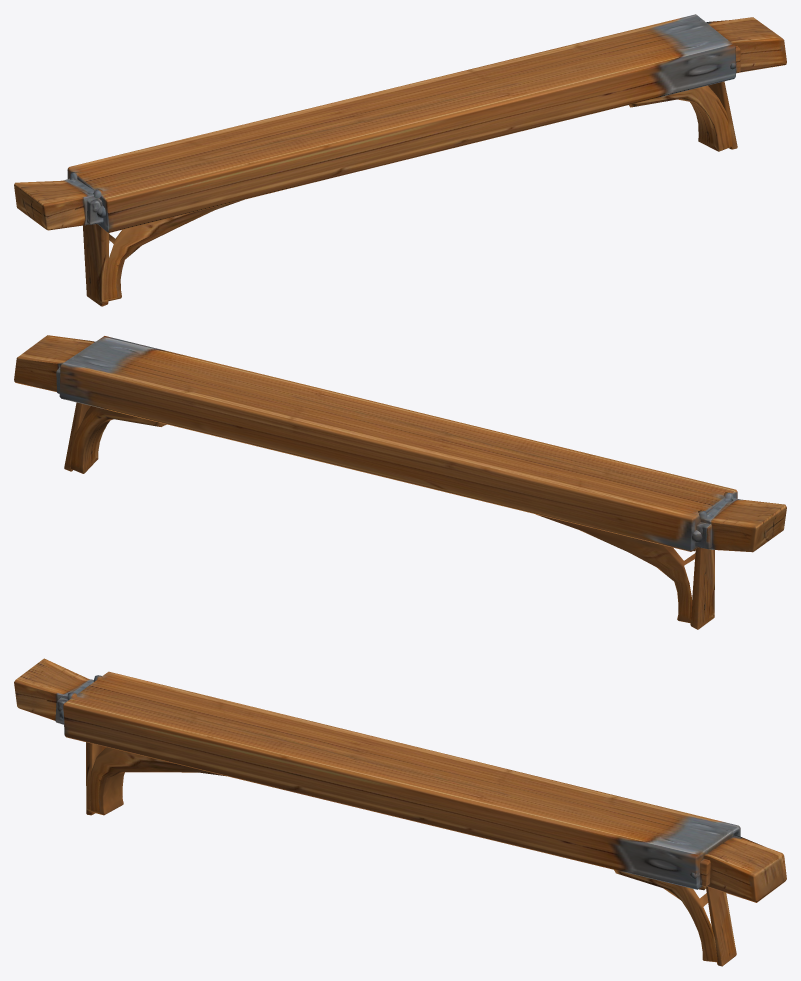
The model's file is deck_beam.glb.
3 renders of one model, top to bottom at view 1: azimuth 30°, elevation 25°; view 2: azimuth 150°, elevation 25°; view 3: azimuth 330°, elevation 25°, orthographic.
Parts seen in each view (by area): view 1: beam; view 2: beam; view 3: beam.
Boxes of the visible parts, x1,y1,x2,y2 form: beam: [14, 14, 786, 306]; beam: [14, 335, 786, 629]; beam: [14, 658, 786, 966].
Size of the model in its own units: 5.6 by 0.9 by 0.5702.
Materials: 1 (1 with a texture image).
